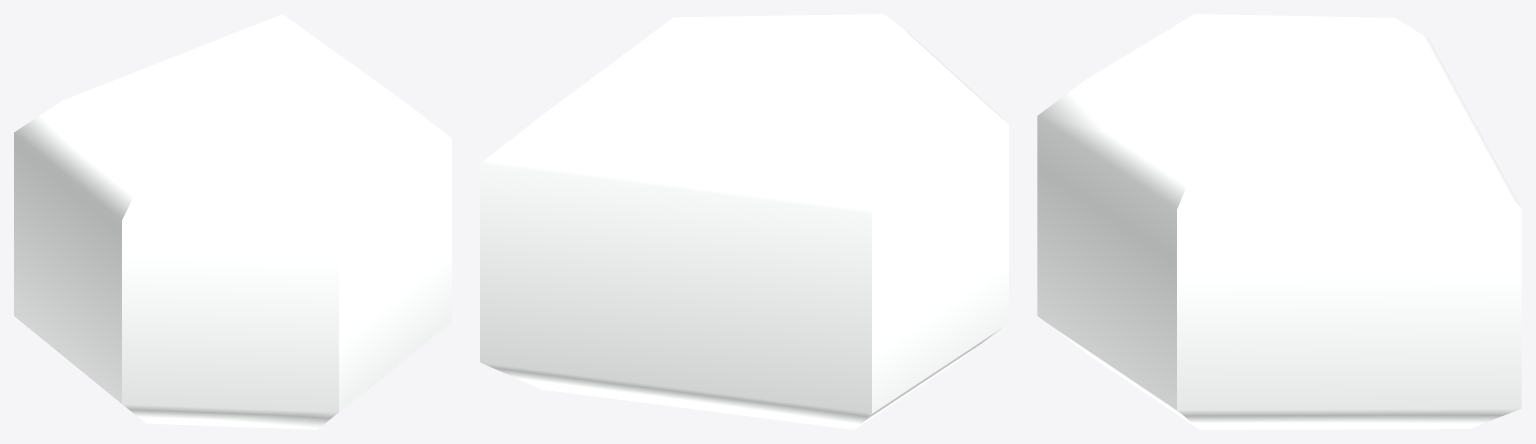
The model's file is ice_floe_small_007.glb.
The picture shows the model from 3 angles, left to right: view 1: azimuth 30°, elevation 25°; view 2: azimuth 150°, elevation 25°; view 3: azimuth 270°, elevation 25°; orthographic projection. The views are drawn at different scales.
Visible parts, largest first — view 1: ice_floe_small_007; view 2: ice_floe_small_007; view 3: ice_floe_small_007.
Boxes of the visible parts, x1,y1,x2,y2 form: ice_floe_small_007: (14,14,451,429); ice_floe_small_007: (480,14,1008,429); ice_floe_small_007: (1037,14,1521,429).
Bounding box in the file's own units: 0.9532 × 0.6962 × 1.11.
Materials: 1 (1 with a texture image).
